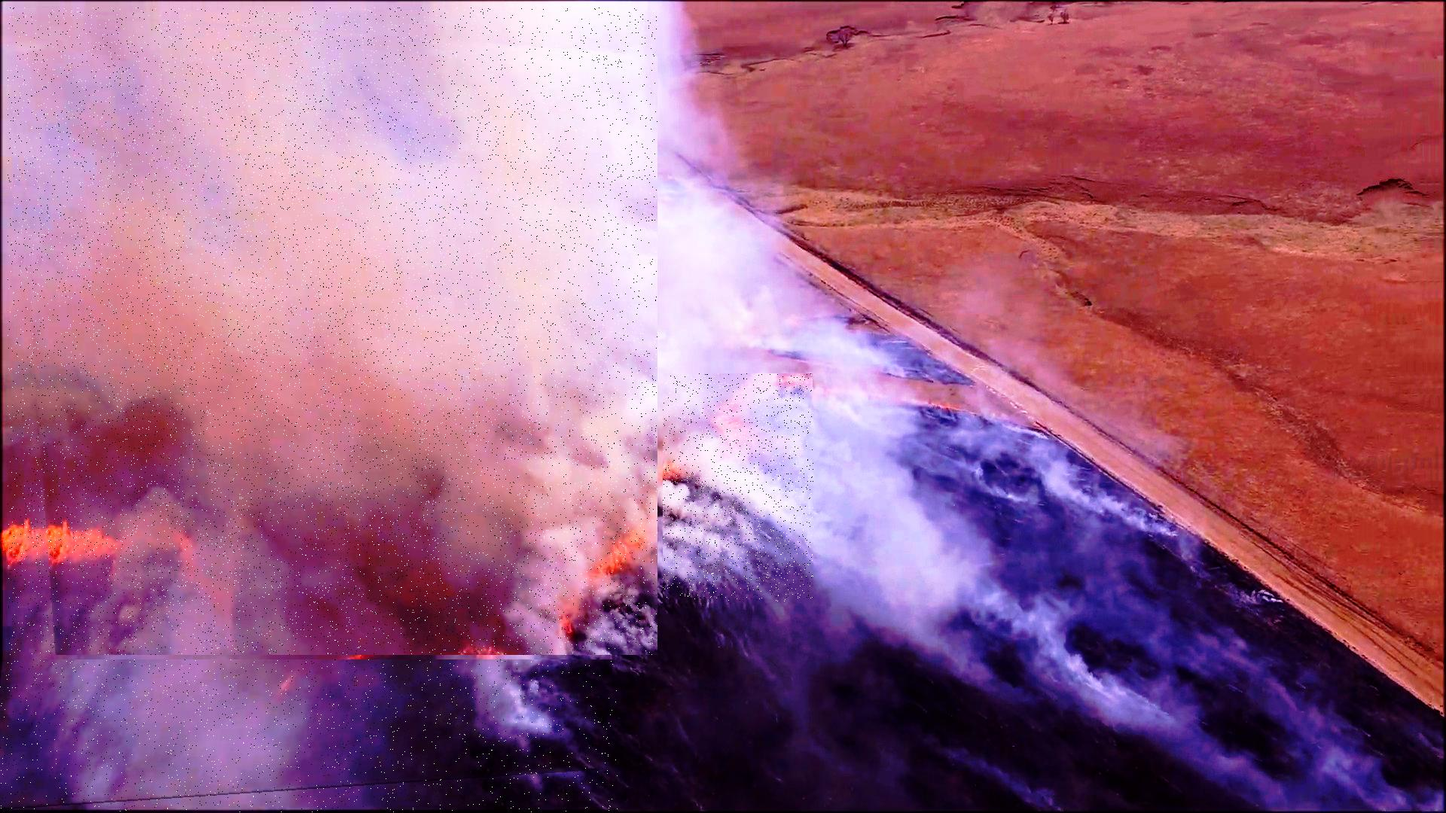fire: (68, 497, 183, 550)
smoke: (8, 8, 658, 655), (0, 660, 618, 813), (663, 374, 813, 602)
